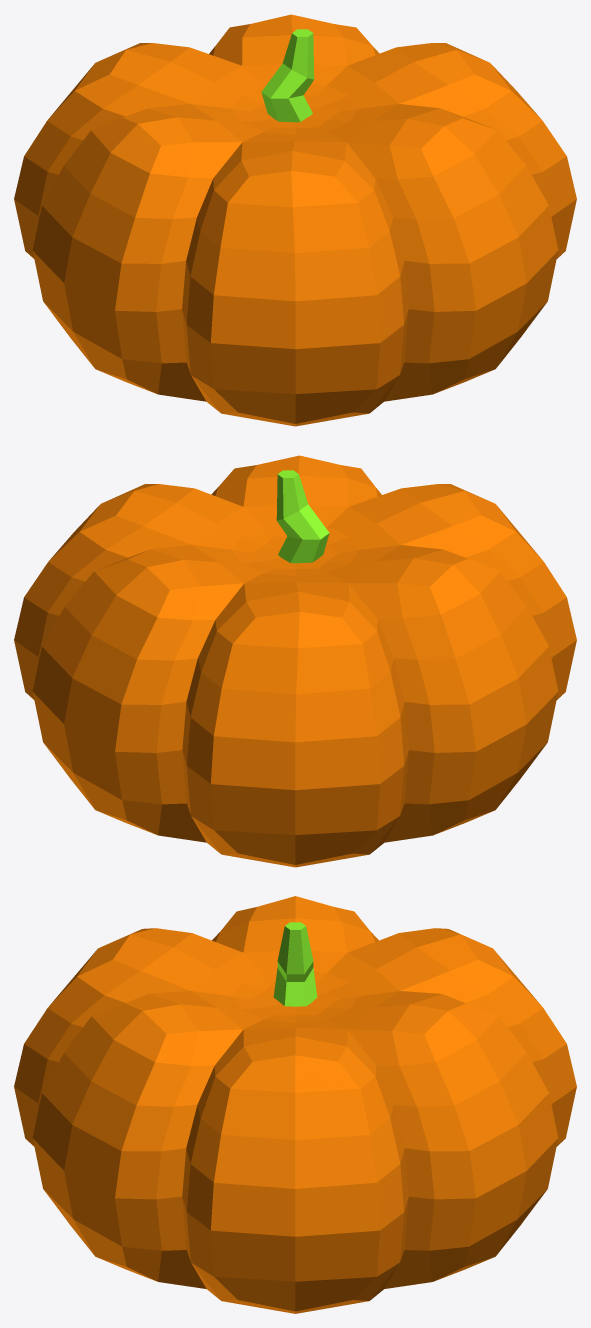
Rendered from Pumpkin_Big.fbx.
3 views of the same model, one above another, from view 1: azimuth 30°, elevation 25°; view 2: azimuth 150°, elevation 25°; view 3: azimuth 270°, elevation 25° (orthographic).
Visible parts, largest first — view 1: Pumpkin.003; view 2: Pumpkin.003; view 3: Pumpkin.003.
Boxes of the visible parts, x1,y1,x2,y2 form: Pumpkin.003: (14,14,576,426); Pumpkin.003: (14,455,576,867); Pumpkin.003: (14,896,576,1313).
Size of the model in its own units: 7.02 by 4.37 by 7.09.
